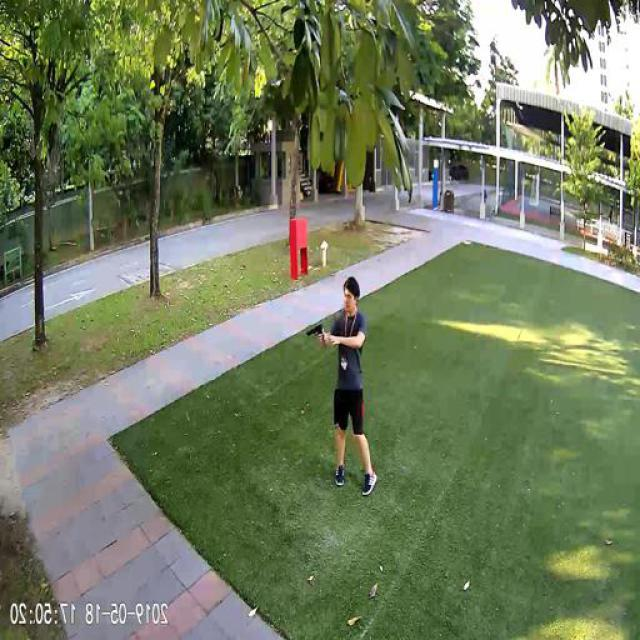Gun: (308, 320, 326, 339)
